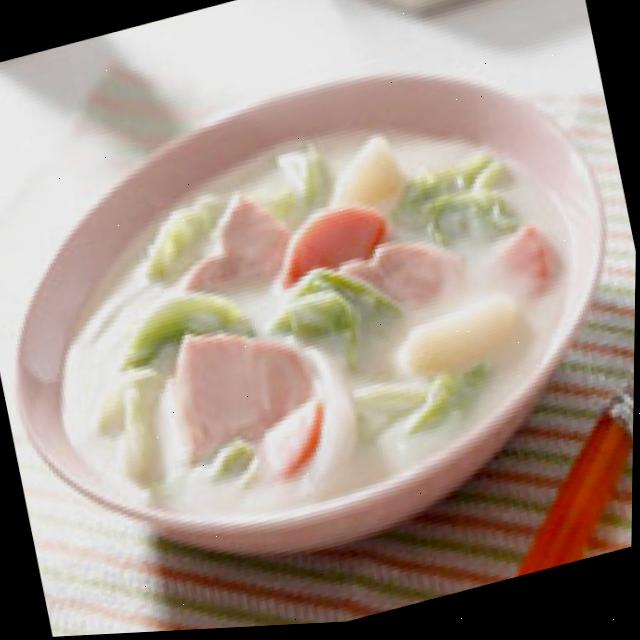汤锅炖物: (0, 0, 640, 638)
